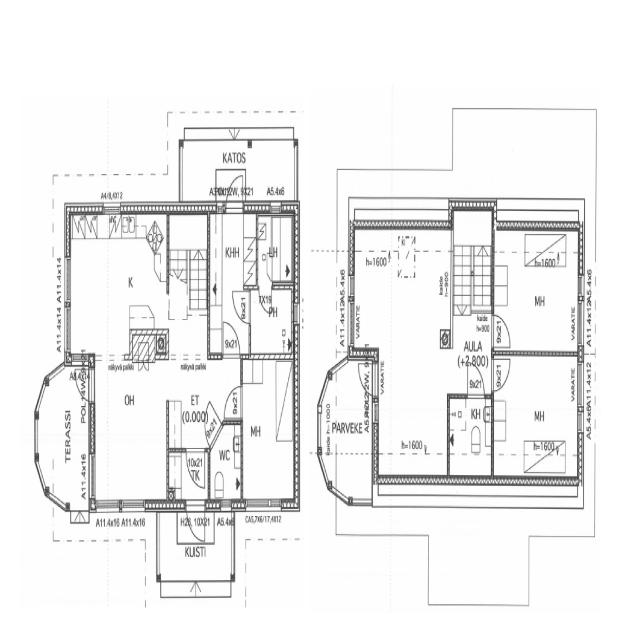door: (185, 444, 207, 490), (184, 497, 207, 540), (492, 308, 513, 348), (492, 353, 512, 393), (222, 318, 241, 359), (221, 382, 242, 419), (465, 360, 486, 397), (205, 400, 222, 444), (225, 175, 244, 214), (231, 288, 248, 323), (257, 284, 274, 316)
window: (114, 492, 150, 522), (244, 494, 283, 521), (59, 254, 71, 312), (575, 360, 585, 424), (349, 490, 373, 510), (67, 504, 86, 527), (219, 497, 234, 518)
zone: (66, 212, 168, 352), (349, 225, 452, 354), (90, 361, 169, 505), (492, 228, 580, 356), (491, 354, 580, 476), (34, 359, 93, 519), (240, 348, 296, 506), (320, 354, 377, 506), (168, 210, 209, 360), (447, 394, 493, 480), (208, 208, 255, 290), (453, 304, 492, 392), (250, 284, 295, 355), (256, 210, 296, 285), (210, 423, 243, 502), (452, 203, 494, 246)
